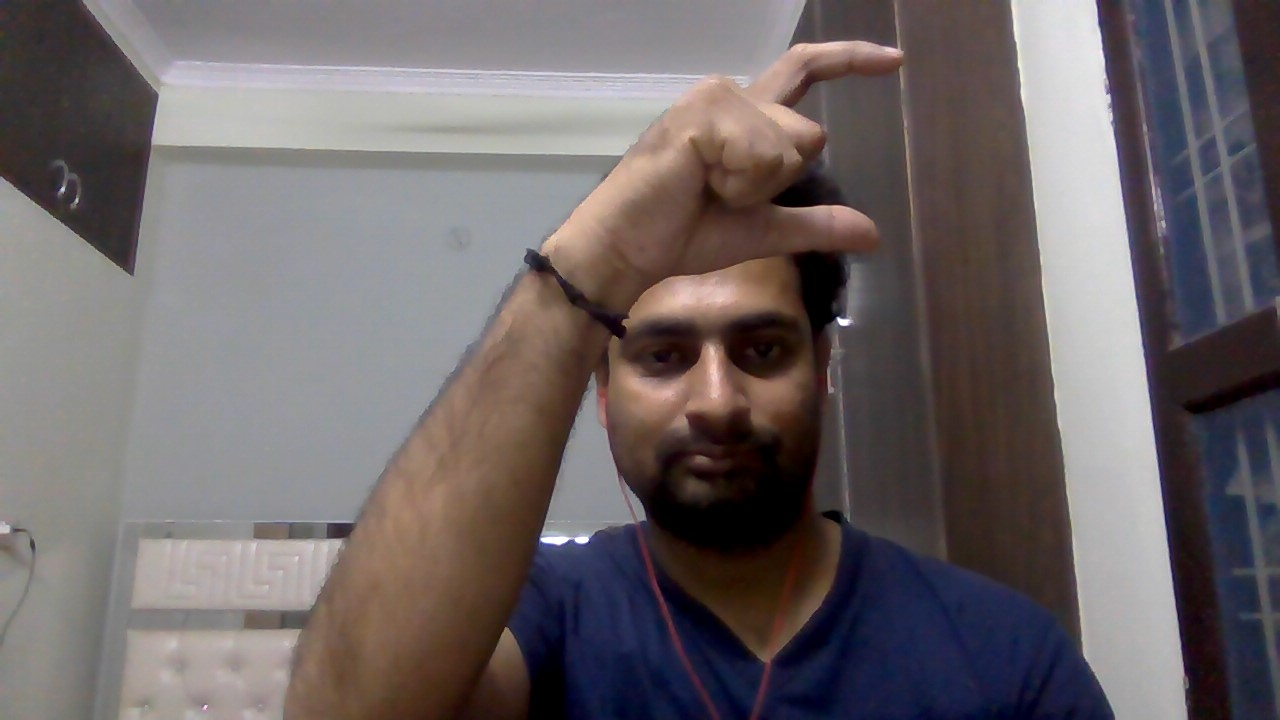Paste: (583, 22, 922, 302)
